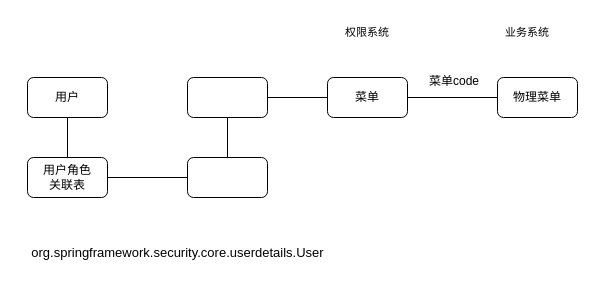
This 595x284 diagram has some shape labels left out. The shapes that lost their labels are listed below. From the top down, each one's centre as x and y in pixels, then its label:
(x=227, y=97): 角色菜单 关联表
(x=227, y=177): 角色
